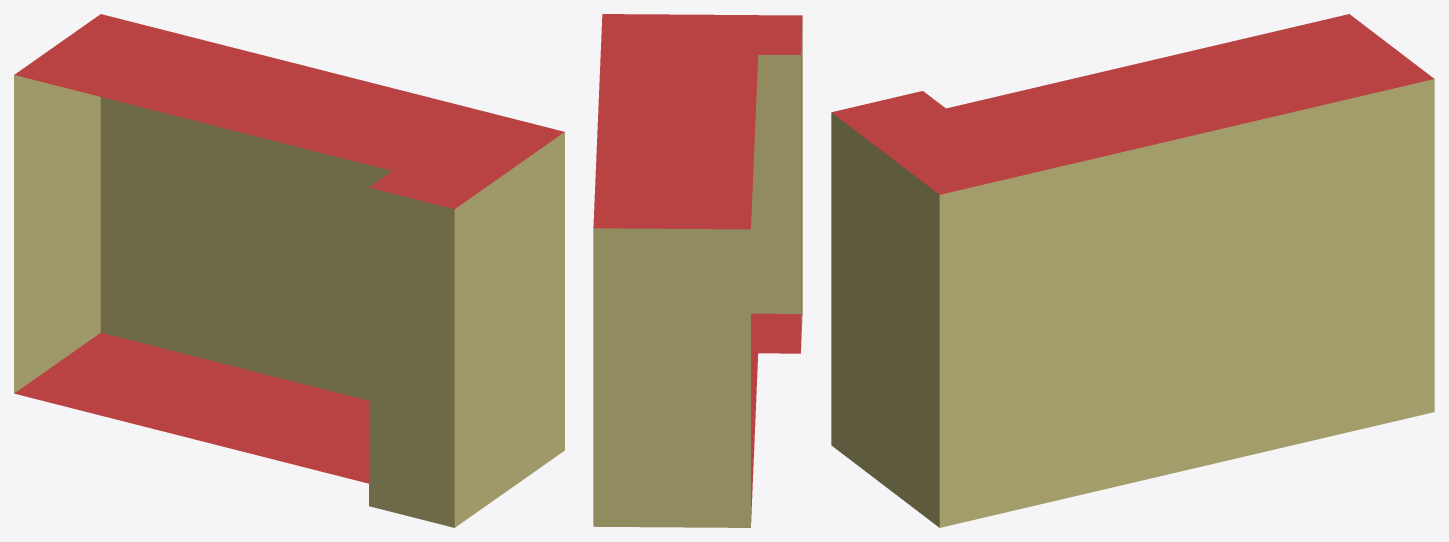
3 renders of one model, left to right at view 1: azimuth 30°, elevation 25°; view 2: azimuth 150°, elevation 25°; view 3: azimuth 270°, elevation 25°, orthographic. The views are drawn at different scales.
Bounding box in the file's own units: 6.96 × 9.8 × 5.97.
